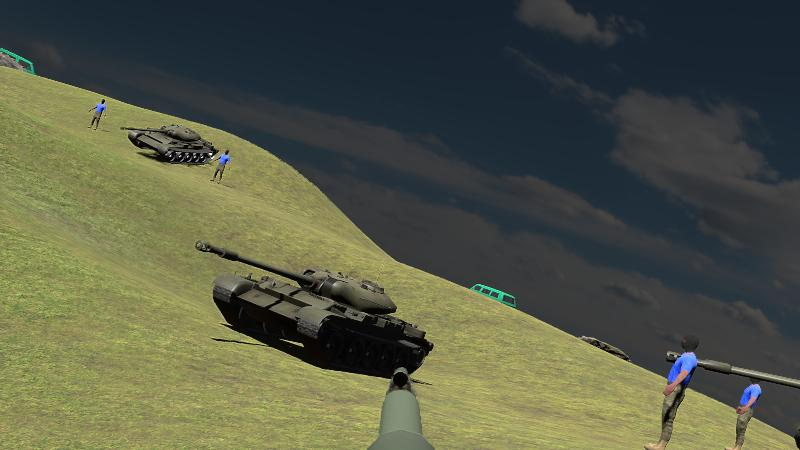Human: (644, 333, 700, 450), (725, 370, 762, 449)
Tank: (193, 241, 436, 380), (120, 123, 218, 165)
